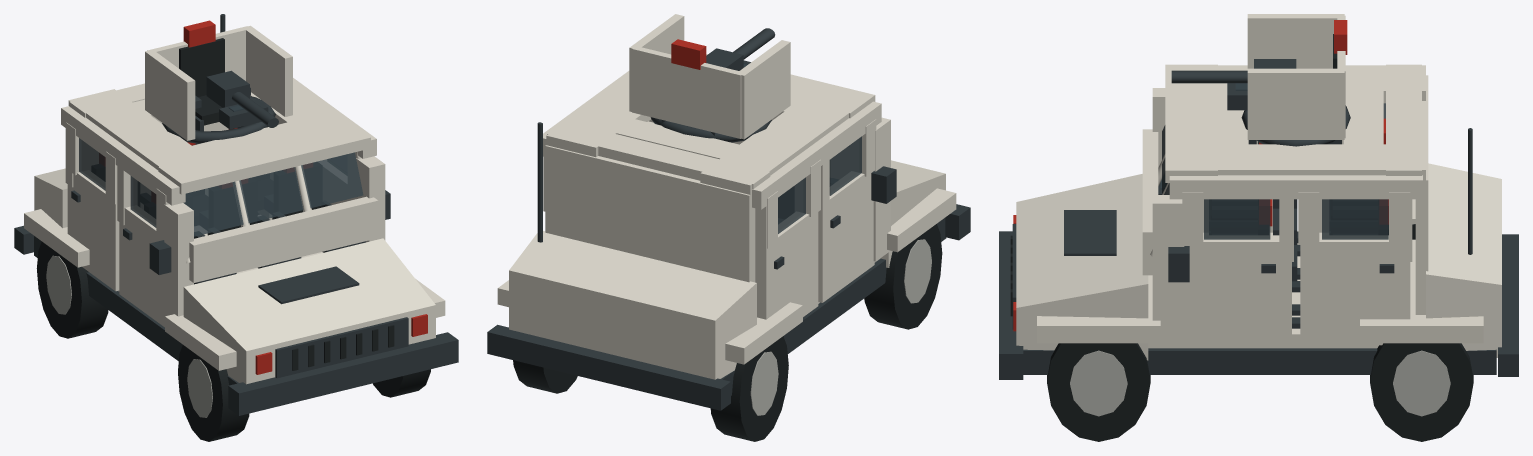
3 renders of one model, left to right at view 1: azimuth 30°, elevation 25°; view 2: azimuth 150°, elevation 25°; view 3: azimuth 270°, elevation 25°, orthographic. The views are drawn at different scales.
Parts seen in each view (by area): view 1: humvee-fleet-armor, humvee-fleet-machine, humvee-fleet-glass, turret-fleet-armor, crew-chair-gunner-painted, wheel--1--1.54-fleet-rubber, wheel--1-1.52-fleet-rubber, crew-chair-front-center-painted, crew-chair-passenger-painted, barrel-fleet-machine, wheel--1-1.52-fleet-edge, wheel--1--1.54-fleet-edge (+6 smaller); view 2: humvee-fleet-armor, humvee-fleet-machine, turret-fleet-armor, wheel--1-1.52-fleet-rubber, wheel--1--1.54-fleet-rubber, humvee-fleet-glass, wheel--1-1.52-fleet-edge, wheel--1--1.54-fleet-edge, wheel-1--1.54-fleet-rubber, barrel-fleet-machine, crew-chair-gunner-painted, turret-fleet-machine; view 3: humvee-fleet-armor, humvee-fleet-machine, turret-fleet-armor, humvee-fleet-glass, wheel-1--1.54-fleet-rubber, wheel-1-1.52-fleet-rubber, wheel-1--1.54-fleet-edge, wheel-1-1.52-fleet-edge, barrel-fleet-machine, crew-chair-rear-center-painted, crew-chair-gunner-painted, crew-chair-rear-left-painted (+4 smaller).
Boxes of the visible parts, x1,y1,x2,y2 form: humvee-fleet-armor: [24, 78, 445, 384]; humvee-fleet-machine: [14, 14, 458, 415]; humvee-fleet-glass: [79, 138, 363, 236]; turret-fleet-armor: [145, 25, 292, 140]; crew-chair-gunner-painted: [179, 20, 268, 131]; wheel--1--1.54-fleet-rubber: [36, 241, 108, 338]; wheel--1-1.52-fleet-rubber: [178, 345, 249, 441]; crew-chair-front-center-painted: [207, 178, 300, 273]; crew-chair-passenger-painted: [272, 162, 365, 257]; barrel-fleet-machine: [206, 70, 278, 127]; wheel--1-1.52-fleet-edge: [187, 359, 212, 417]; wheel--1--1.54-fleet-edge: [46, 255, 71, 314]; humvee-fleet-armor: [497, 54, 956, 379]; humvee-fleet-machine: [487, 122, 970, 410]; turret-fleet-armor: [629, 14, 790, 139]; wheel--1-1.52-fleet-rubber: [864, 224, 942, 329]; wheel--1--1.54-fleet-rubber: [710, 336, 788, 441]; humvee-fleet-glass: [778, 136, 861, 233]; wheel--1-1.52-fleet-edge: [904, 239, 931, 303]; wheel--1--1.54-fleet-edge: [750, 351, 778, 415]; wheel-1--1.54-fleet-rubber: [513, 360, 577, 393]; barrel-fleet-machine: [706, 28, 775, 70]; crew-chair-gunner-painted: [661, 39, 750, 135]; turret-fleet-machine: [650, 117, 771, 142]; humvee-fleet-armor: [1016, 64, 1501, 360]; humvee-fleet-machine: [999, 128, 1518, 379]; turret-fleet-armor: [1247, 14, 1345, 139]; humvee-fleet-glass: [1162, 103, 1388, 239]; wheel-1--1.54-fleet-rubber: [1370, 343, 1473, 441]; wheel-1-1.52-fleet-rubber: [1047, 343, 1150, 441]; wheel-1--1.54-fleet-edge: [1393, 350, 1450, 416]; wheel-1-1.52-fleet-edge: [1070, 350, 1127, 416]; barrel-fleet-machine: [1171, 59, 1296, 83]; crew-chair-rear-center-painted: [1273, 206, 1377, 292]; crew-chair-gunner-painted: [1227, 20, 1347, 144]; crew-chair-rear-left-painted: [1273, 118, 1385, 256].
Bounding box in the file's own units: 15.81 × 20.28 × 26.84.
